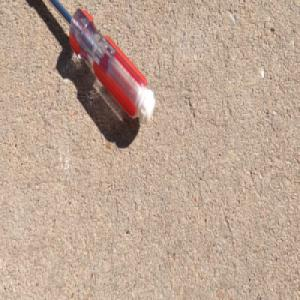Screwdriver: (41, 0, 156, 125)
